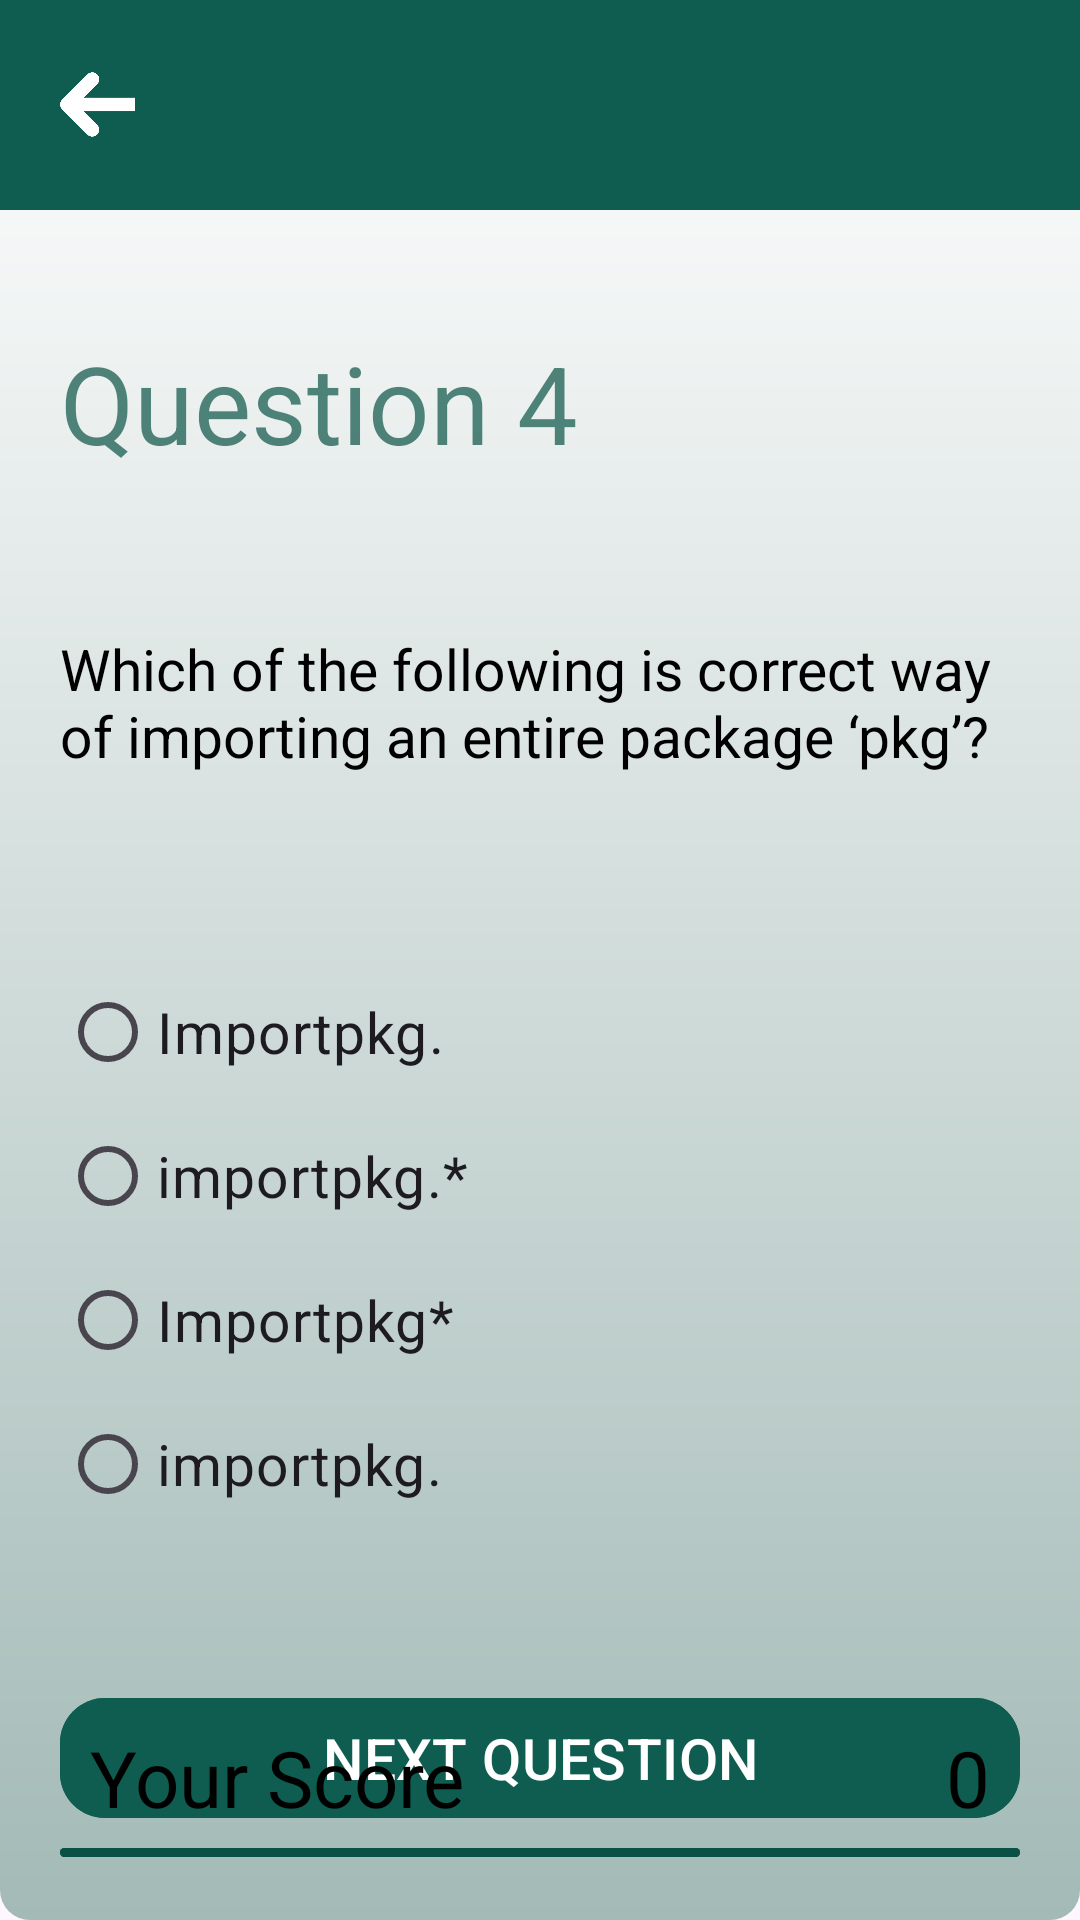

Where icons sit on this 1080 × 1920 app screen, as (x1, y1, x2, y2):
back: (60, 72, 135, 137)
